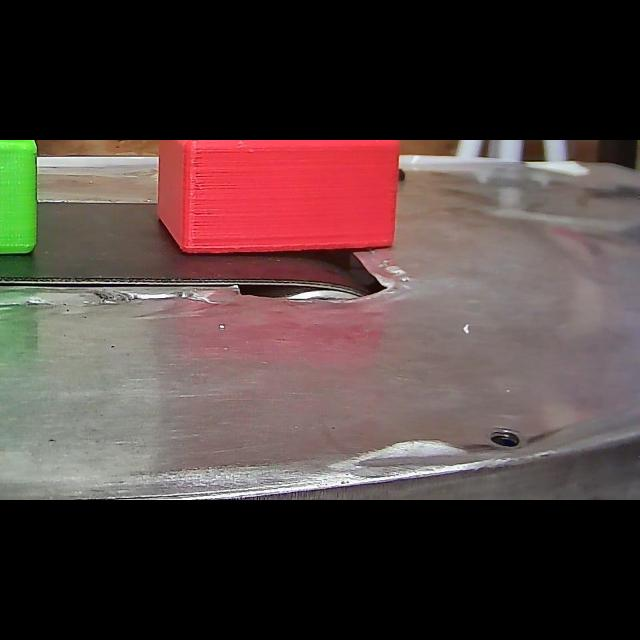greenBox: (0, 140, 46, 264)
redBox: (155, 140, 407, 264)
